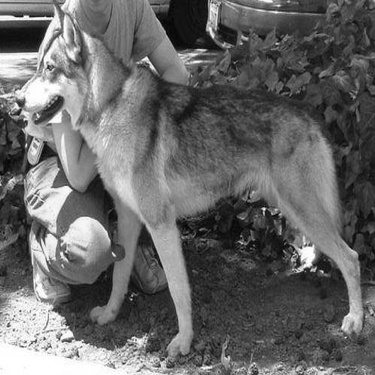dog: (11, 1, 367, 362)
